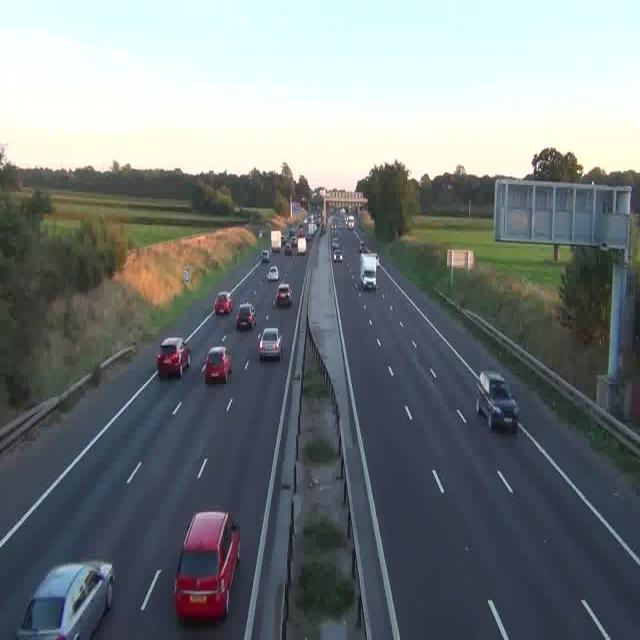car: (17, 560, 113, 639), (176, 512, 240, 621), (476, 372, 518, 432), (156, 338, 190, 378), (204, 346, 231, 381), (257, 327, 281, 360), (237, 302, 256, 329), (214, 290, 232, 314), (276, 284, 292, 306), (268, 264, 278, 281), (333, 248, 343, 263), (260, 249, 270, 262), (358, 241, 366, 252), (331, 232, 339, 243)
truck: (359, 248, 378, 291), (269, 230, 282, 254), (296, 234, 306, 253), (309, 218, 317, 237), (346, 212, 354, 230)
